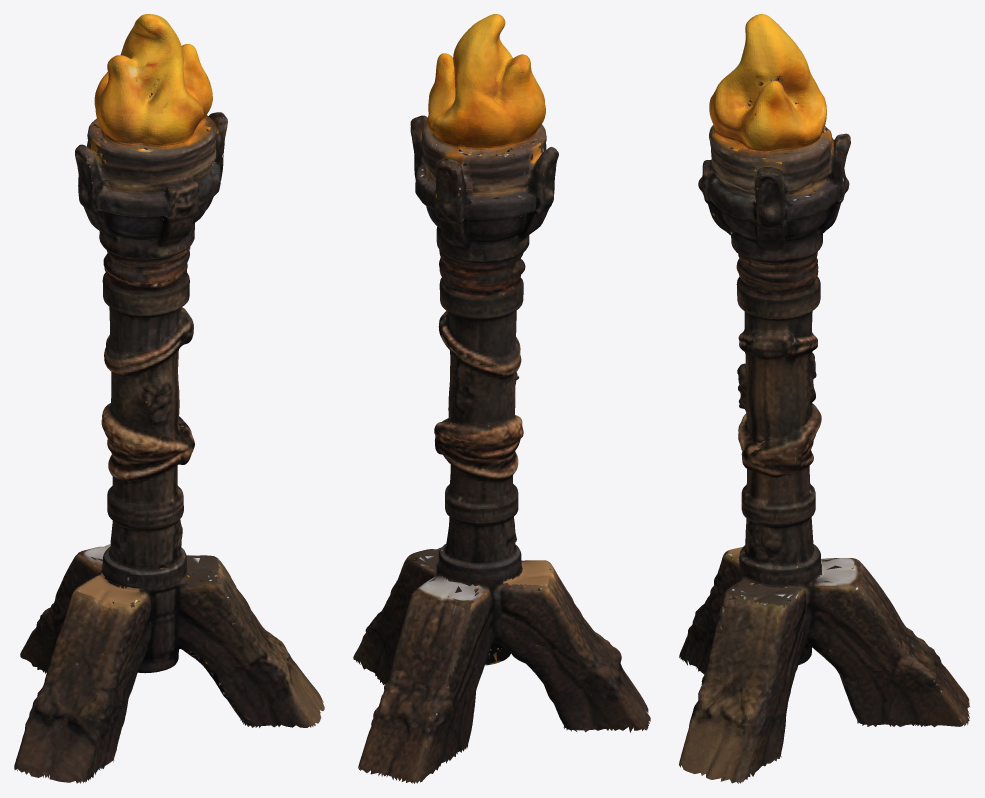
The model's file is torch-on-a-stand.glb.
3 renders of one model, left to right at view 1: azimuth 30°, elevation 25°; view 2: azimuth 150°, elevation 25°; view 3: azimuth 270°, elevation 25°, orthographic. The views are drawn at different scales.
Visible parts, largest first — view 1: geometry_0; view 2: geometry_0; view 3: geometry_0.
Part boxes in pixels (<box>): geometry_0: <box>14,14,324,783</box>; geometry_0: <box>353,14,650,783</box>; geometry_0: <box>679,14,969,783</box>.
Bounding box in the file's own units: 0.8882 × 1.99 × 0.7567.
1 material, 1 textured.
